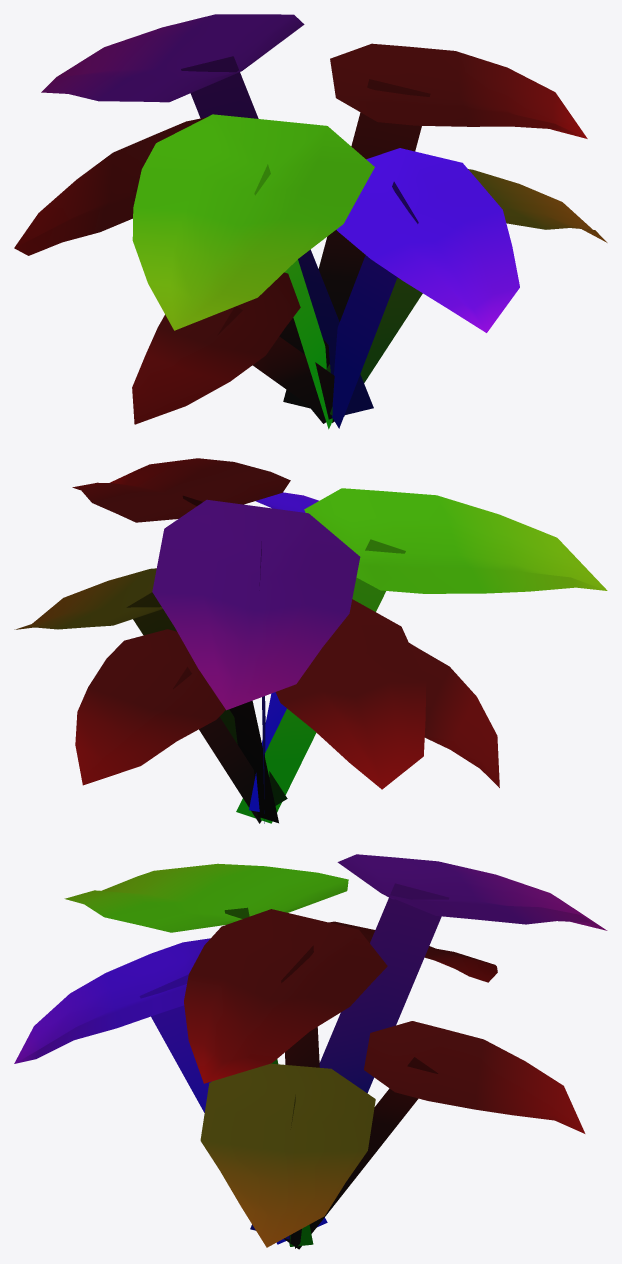
The model's file is Elephant_ear_var1.fbx.
The picture shows the model from 3 angles, top to bottom: view 1: azimuth 30°, elevation 25°; view 2: azimuth 150°, elevation 25°; view 3: azimuth 270°, elevation 25°; orthographic projection. The views are drawn at different scales.
Parts seen in each view (by area): view 1: Elephant_Ear_var1_LOD0; view 2: Elephant_Ear_var1_LOD0; view 3: Elephant_Ear_var1_LOD0.
Part boxes in pixels (x1,y1,x2,y2): Elephant_Ear_var1_LOD0: [14, 14, 607, 429]; Elephant_Ear_var1_LOD0: [14, 458, 607, 823]; Elephant_Ear_var1_LOD0: [14, 854, 607, 1249].
Size of what is drawn, in the model's own units: 12.72 by 8.56 by 12.66.
